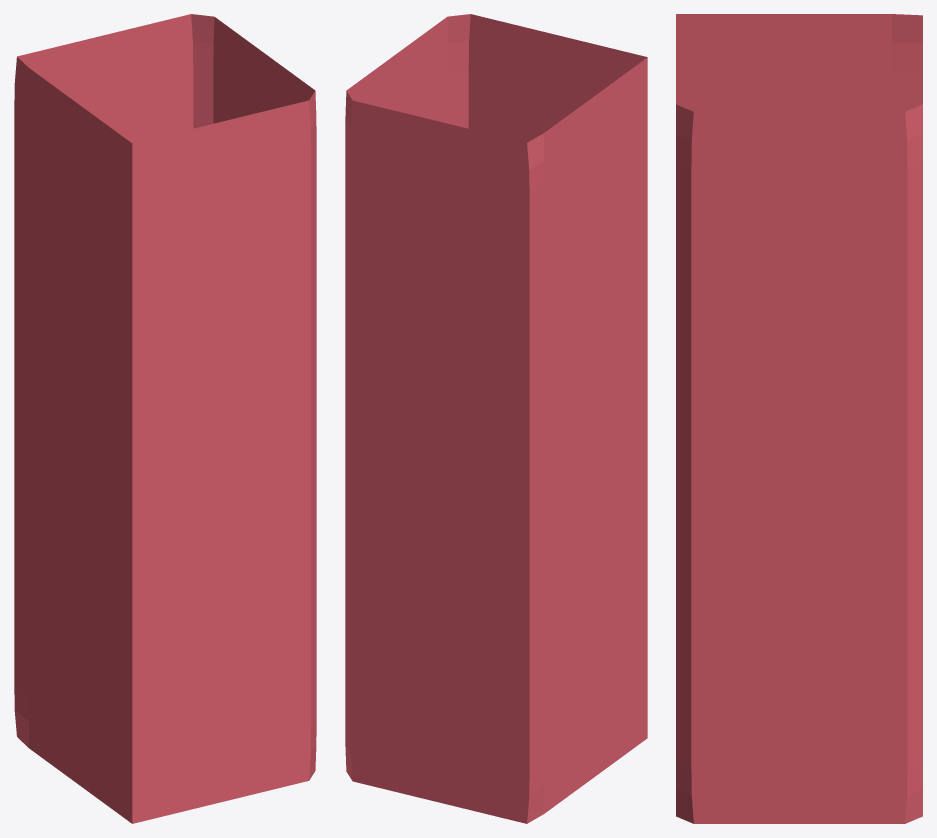
3 views of the same model, side by side, from view 1: azimuth 30°, elevation 25°; view 2: azimuth 150°, elevation 25°; view 3: azimuth 270°, elevation 25° (orthographic). The views are drawn at different scales.
Parts seen in each view (by area): view 1: Mesh_1060, Mesh_1442, Mesh_1029, Mesh_1308, Mesh_1277, Mesh_1339, Mesh_1473, Mesh_108, Mesh_1091, Mesh_242, Mesh_73, Mesh_1184 (+185 smaller); view 2: Mesh_1225, Mesh_1256, Mesh_1413, Mesh_1444, Mesh_1194, Mesh_1287, Mesh_1320, Mesh_1349, Mesh_1380, Mesh_1382, Mesh_1475, Mesh_1537 (+185 smaller); view 3: Mesh_1155, Mesh_1160, Mesh_1161, Mesh_1217, Mesh_1222, Mesh_1223, Mesh_1279, Mesh_1284, Mesh_1285, Mesh_1341, Mesh_1346, Mesh_1347 (+237 smaller).
Boxes of the visible parts, bbox=[...] form: Mesh_1060: bbox=[285, 508, 311, 541]; Mesh_1442: bbox=[167, 95, 193, 128]; Mesh_1029: bbox=[285, 535, 311, 568]; Mesh_1308: bbox=[285, 290, 311, 323]; Mesh_1277: bbox=[285, 317, 311, 350]; Mesh_1339: bbox=[285, 263, 311, 296]; Mesh_1473: bbox=[167, 68, 193, 101]; Mesh_108: bbox=[285, 671, 311, 704]; Mesh_1091: bbox=[285, 481, 311, 514]; Mesh_242: bbox=[285, 562, 311, 595]; Mesh_73: bbox=[285, 699, 311, 731]; Mesh_1184: bbox=[285, 399, 311, 432]; Mesh_1225: bbox=[350, 372, 376, 405]; Mesh_1256: bbox=[350, 345, 376, 378]; Mesh_1413: bbox=[401, 221, 427, 254]; Mesh_1444: bbox=[401, 194, 427, 227]; Mesh_1194: bbox=[350, 399, 376, 432]; Mesh_1287: bbox=[350, 318, 376, 351]; Mesh_1320: bbox=[401, 303, 427, 336]; Mesh_1349: bbox=[350, 263, 376, 296]; Mesh_1380: bbox=[350, 236, 376, 269]; Mesh_1382: bbox=[401, 248, 427, 281]; Mesh_1475: bbox=[401, 167, 427, 200]; Mesh_1537: bbox=[401, 112, 427, 145]; Mesh_1155: bbox=[691, 453, 722, 482]; Mesh_1160: bbox=[845, 453, 876, 482]; Mesh_1161: bbox=[876, 453, 907, 482]; Mesh_1217: bbox=[691, 396, 722, 425]; Mesh_1222: bbox=[845, 396, 876, 425]; Mesh_1223: bbox=[876, 396, 907, 425]; Mesh_1279: bbox=[691, 339, 722, 368]; Mesh_1284: bbox=[845, 339, 876, 368]; Mesh_1285: bbox=[876, 339, 907, 368]; Mesh_1341: bbox=[691, 282, 722, 311]; Mesh_1346: bbox=[845, 282, 876, 311]; Mesh_1347: bbox=[876, 282, 907, 311].
Size of the model in its own units: 37.9 by 129 by 40.42.
